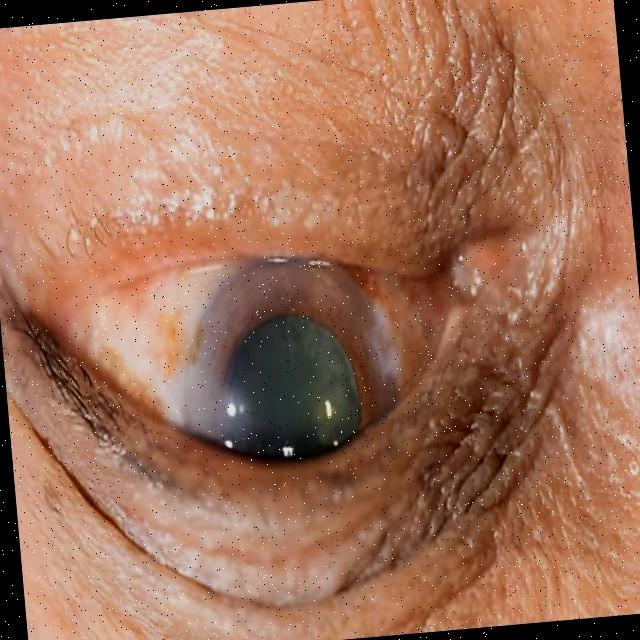Cataract: (158, 239, 404, 496)
